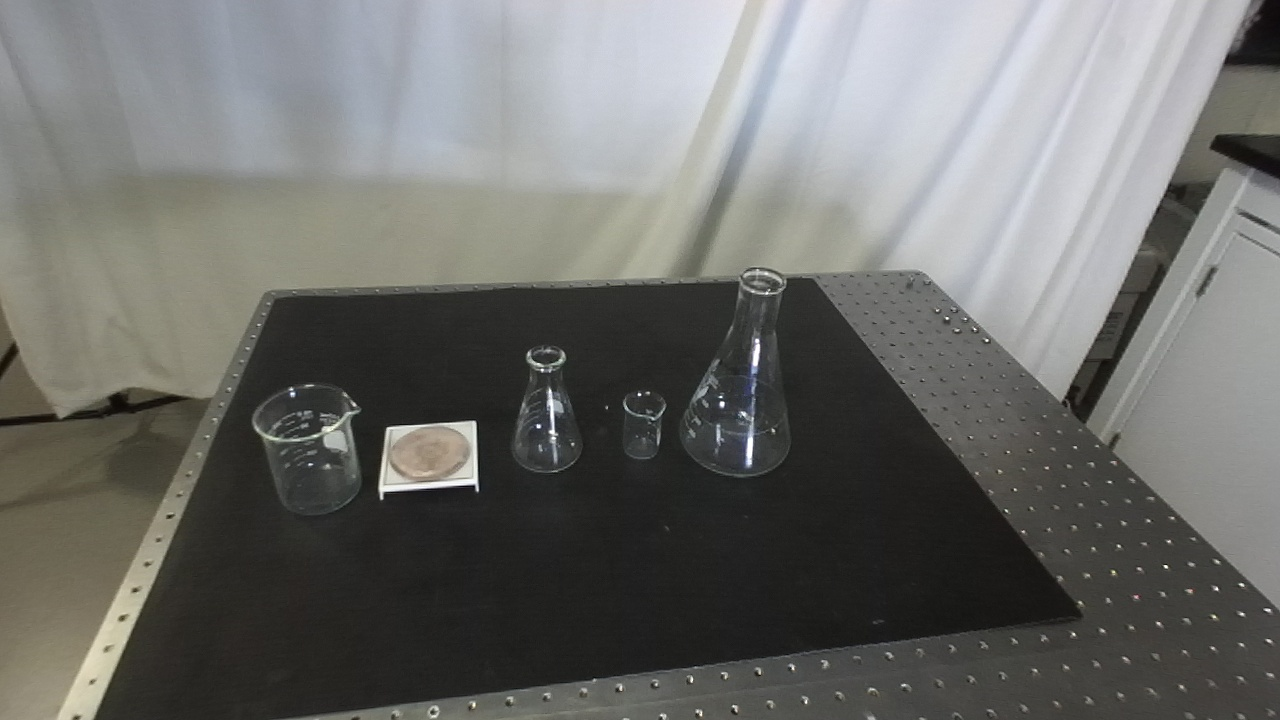glass: (676, 263, 796, 482), (249, 382, 367, 522), (506, 343, 585, 478), (616, 387, 667, 463)
plate: (376, 419, 484, 505)
